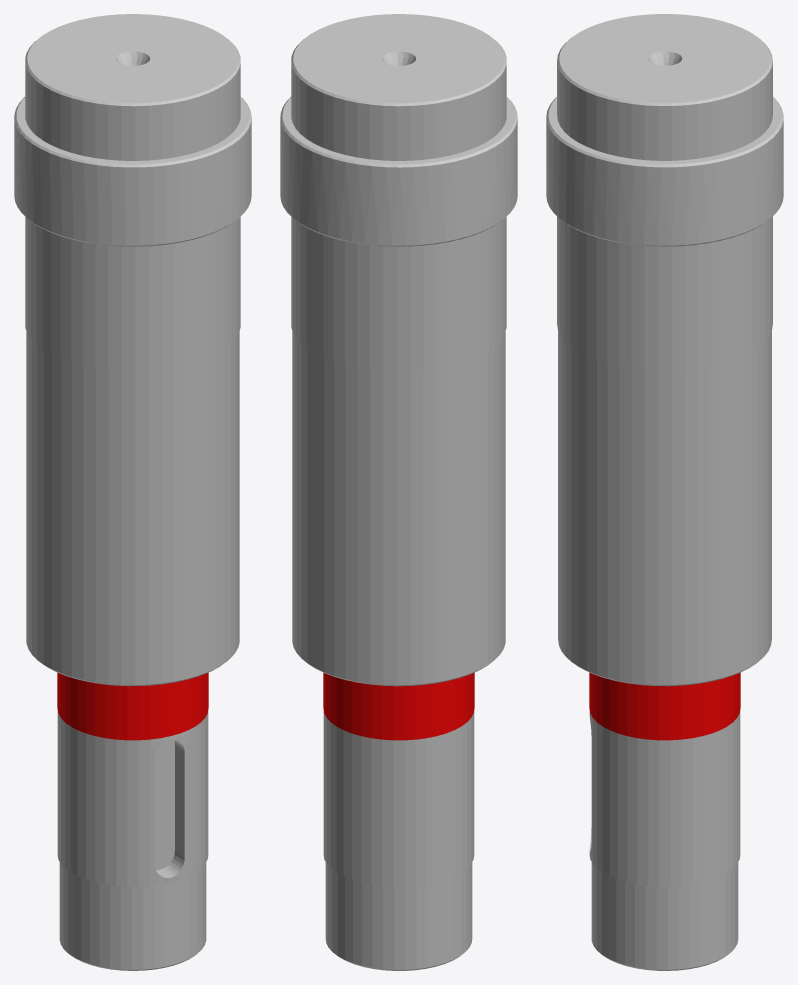
The model's file is 4_stp_6_7.obj.
3 renders of one model, left to right at view 1: azimuth 30°, elevation 25°; view 2: azimuth 150°, elevation 25°; view 3: azimuth 270°, elevation 25°, orthographic.
Parts seen in each view (by area): view 1: Object1; view 2: Object1; view 3: Object1.
Boxes of the visible parts, bbox=[...] form: Object1: bbox=[14, 14, 251, 970]; Object1: bbox=[280, 14, 517, 970]; Object1: bbox=[546, 14, 783, 970].
Bounding box in the file's own units: 54.98 × 225 × 55.
